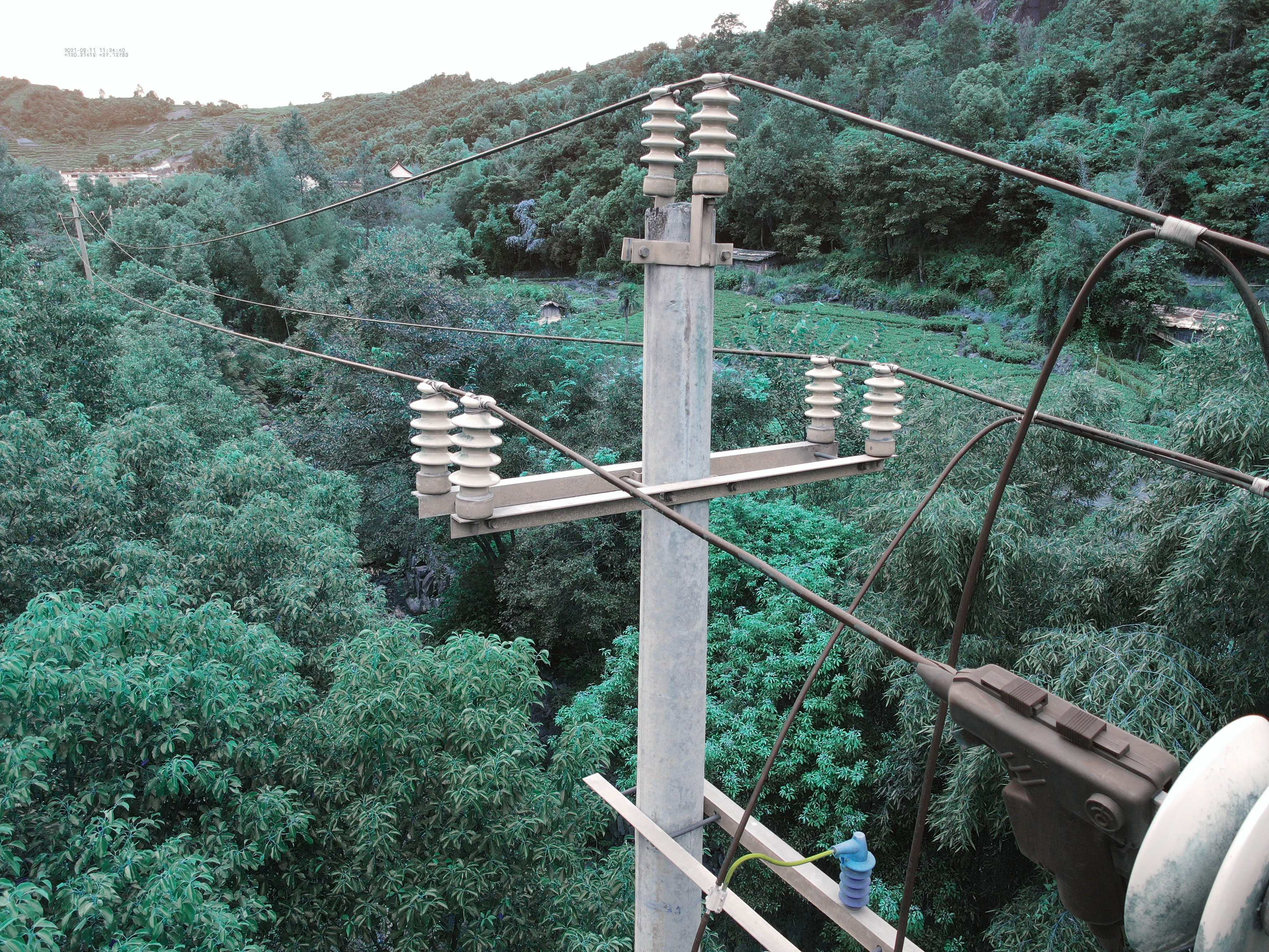severe_soiling_no_discharge_whole: (1115, 708, 1267, 950), (448, 393, 505, 517)
